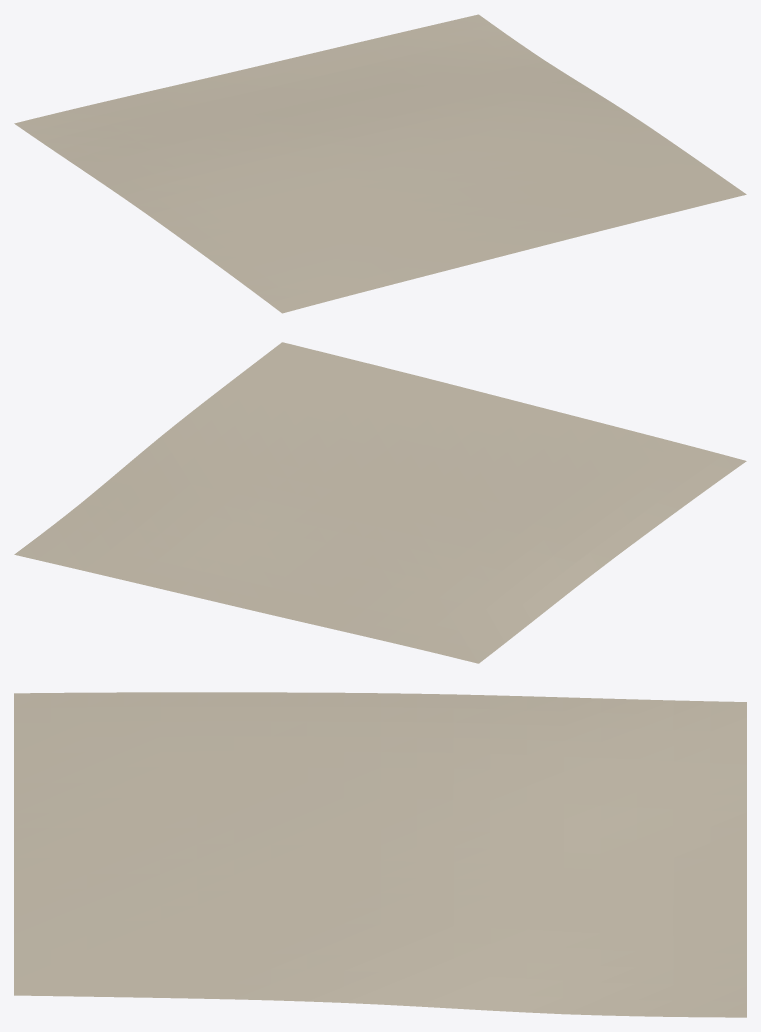
The model's file is bolak_-18_-14.glb.
3 renders of one model, top to bottom at view 1: azimuth 30°, elevation 25°; view 2: azimuth 150°, elevation 25°; view 3: azimuth 270°, elevation 25°, orthographic. The views are drawn at different scales.
Parts seen in each view (by area): view 1: Yer_Tuproq-col; view 2: Yer_Tuproq-col; view 3: Yer_Tuproq-col.
Part boxes in pixels (bbox=[...]): Yer_Tuproq-col: bbox=[14, 14, 746, 313]; Yer_Tuproq-col: bbox=[14, 342, 746, 663]; Yer_Tuproq-col: bbox=[14, 692, 746, 1017].
Size of the model in its own units: 400 by 13.31 by 400.
